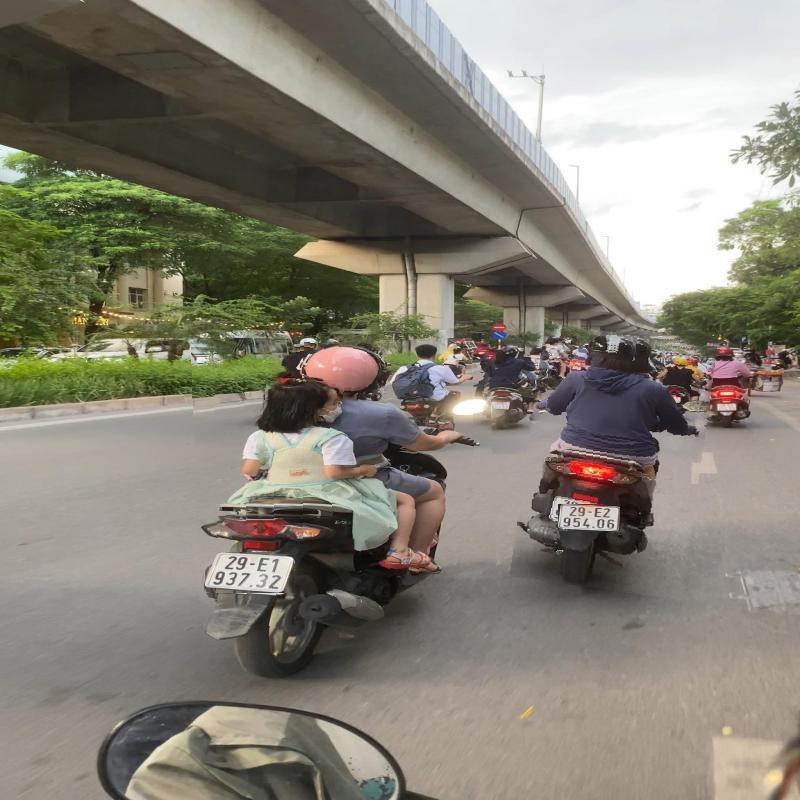helmet: (302, 344, 388, 394), (588, 333, 636, 360)
licenseplate: (205, 552, 294, 593), (558, 504, 620, 531)
motorcyclist: (194, 339, 498, 680), (518, 328, 710, 596)
nohelmet: (264, 377, 344, 426)
